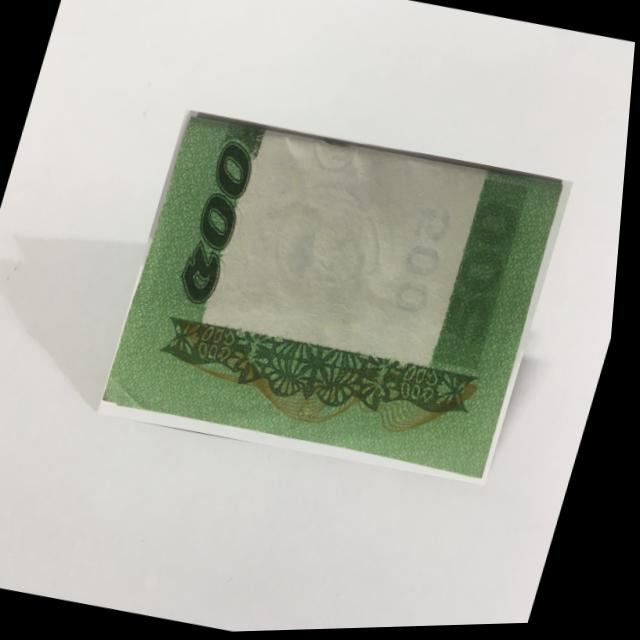Taka: (99, 101, 582, 497)
